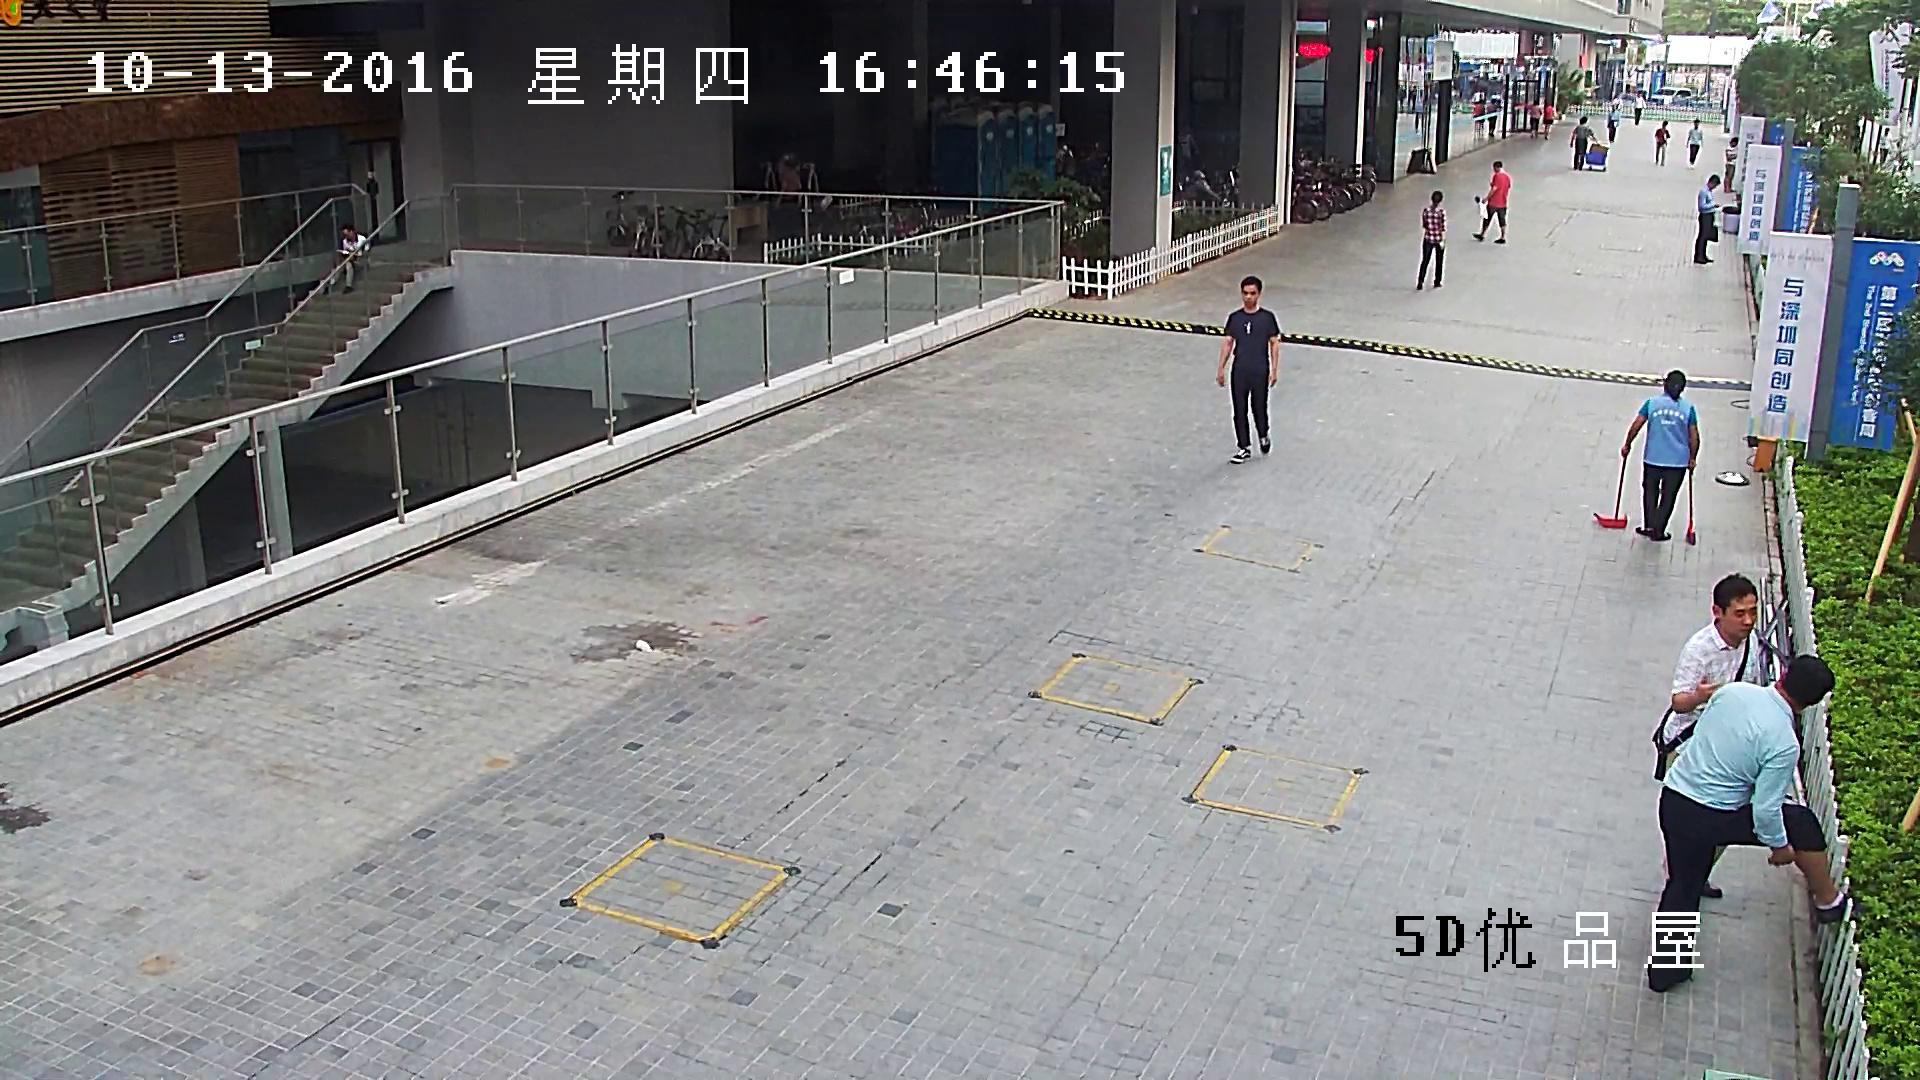person: (1645, 652, 1863, 988), (1652, 571, 1770, 780), (1594, 368, 1703, 543), (1620, 368, 1701, 543), (1216, 275, 1282, 463), (323, 224, 374, 297), (1471, 160, 1512, 244), (1415, 190, 1449, 290), (1693, 174, 1722, 264), (1569, 116, 1609, 171), (1568, 116, 1598, 171), (1685, 119, 1704, 169), (1723, 137, 1738, 193), (1654, 120, 1670, 166), (1525, 98, 1542, 138), (1632, 90, 1647, 126), (1542, 100, 1555, 140), (1606, 105, 1619, 143), (1879, 127, 1891, 163), (1472, 100, 1484, 137), (1487, 98, 1498, 136)
